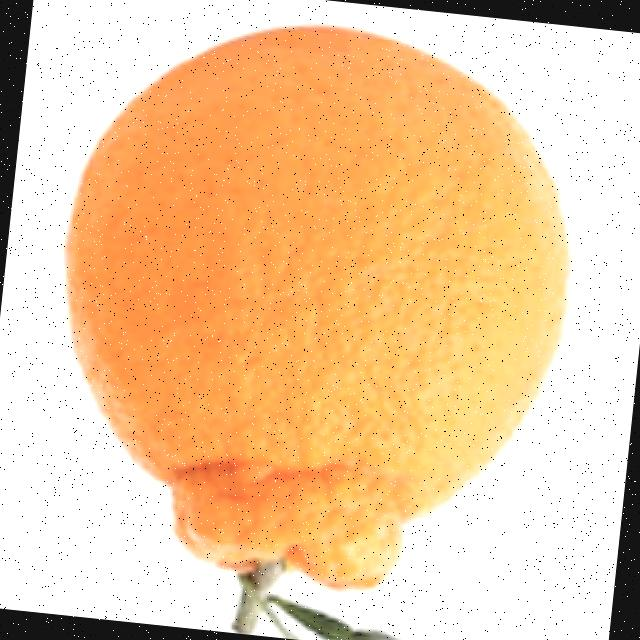orange: (32, 3, 597, 615)
